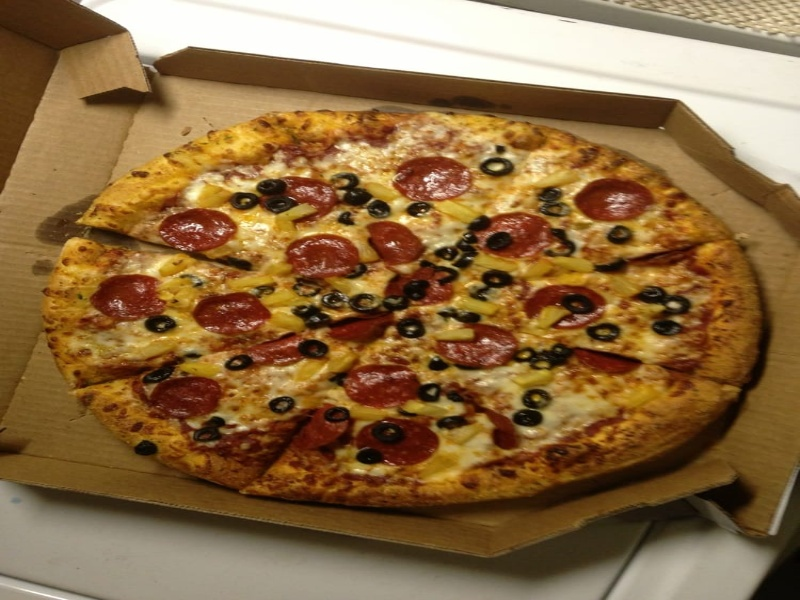olive noir: (285, 298, 333, 336), (513, 382, 568, 410), (473, 150, 521, 181), (556, 284, 600, 317), (645, 313, 696, 340), (254, 389, 301, 418), (289, 337, 341, 362), (343, 289, 386, 317), (585, 318, 629, 344), (481, 265, 521, 291), (508, 408, 549, 433), (635, 277, 671, 305), (394, 312, 428, 341), (402, 201, 450, 220), (147, 313, 185, 336), (341, 182, 372, 209), (483, 230, 516, 248), (332, 168, 357, 191), (514, 343, 538, 365)
pepperonis: (181, 282, 275, 344), (141, 199, 245, 254), (73, 264, 174, 320), (569, 160, 659, 222), (338, 356, 429, 409), (358, 412, 446, 465), (383, 154, 480, 202), (147, 365, 228, 417), (279, 228, 366, 275), (356, 213, 428, 266)
